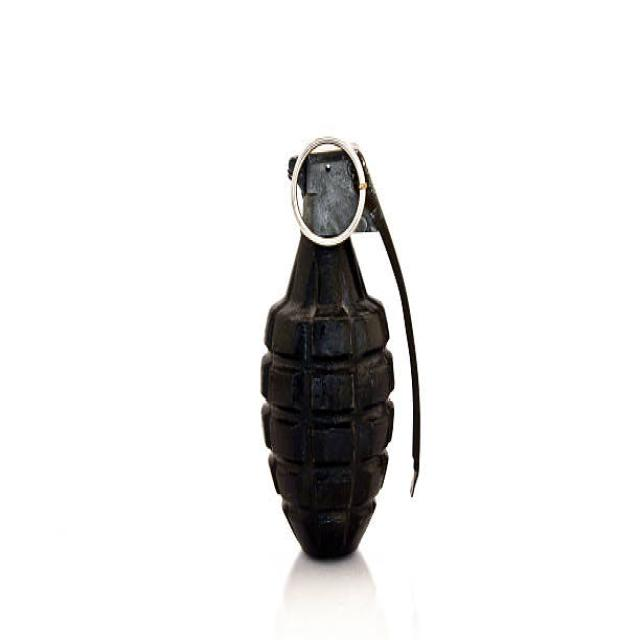grenade: (261, 132, 429, 568)
